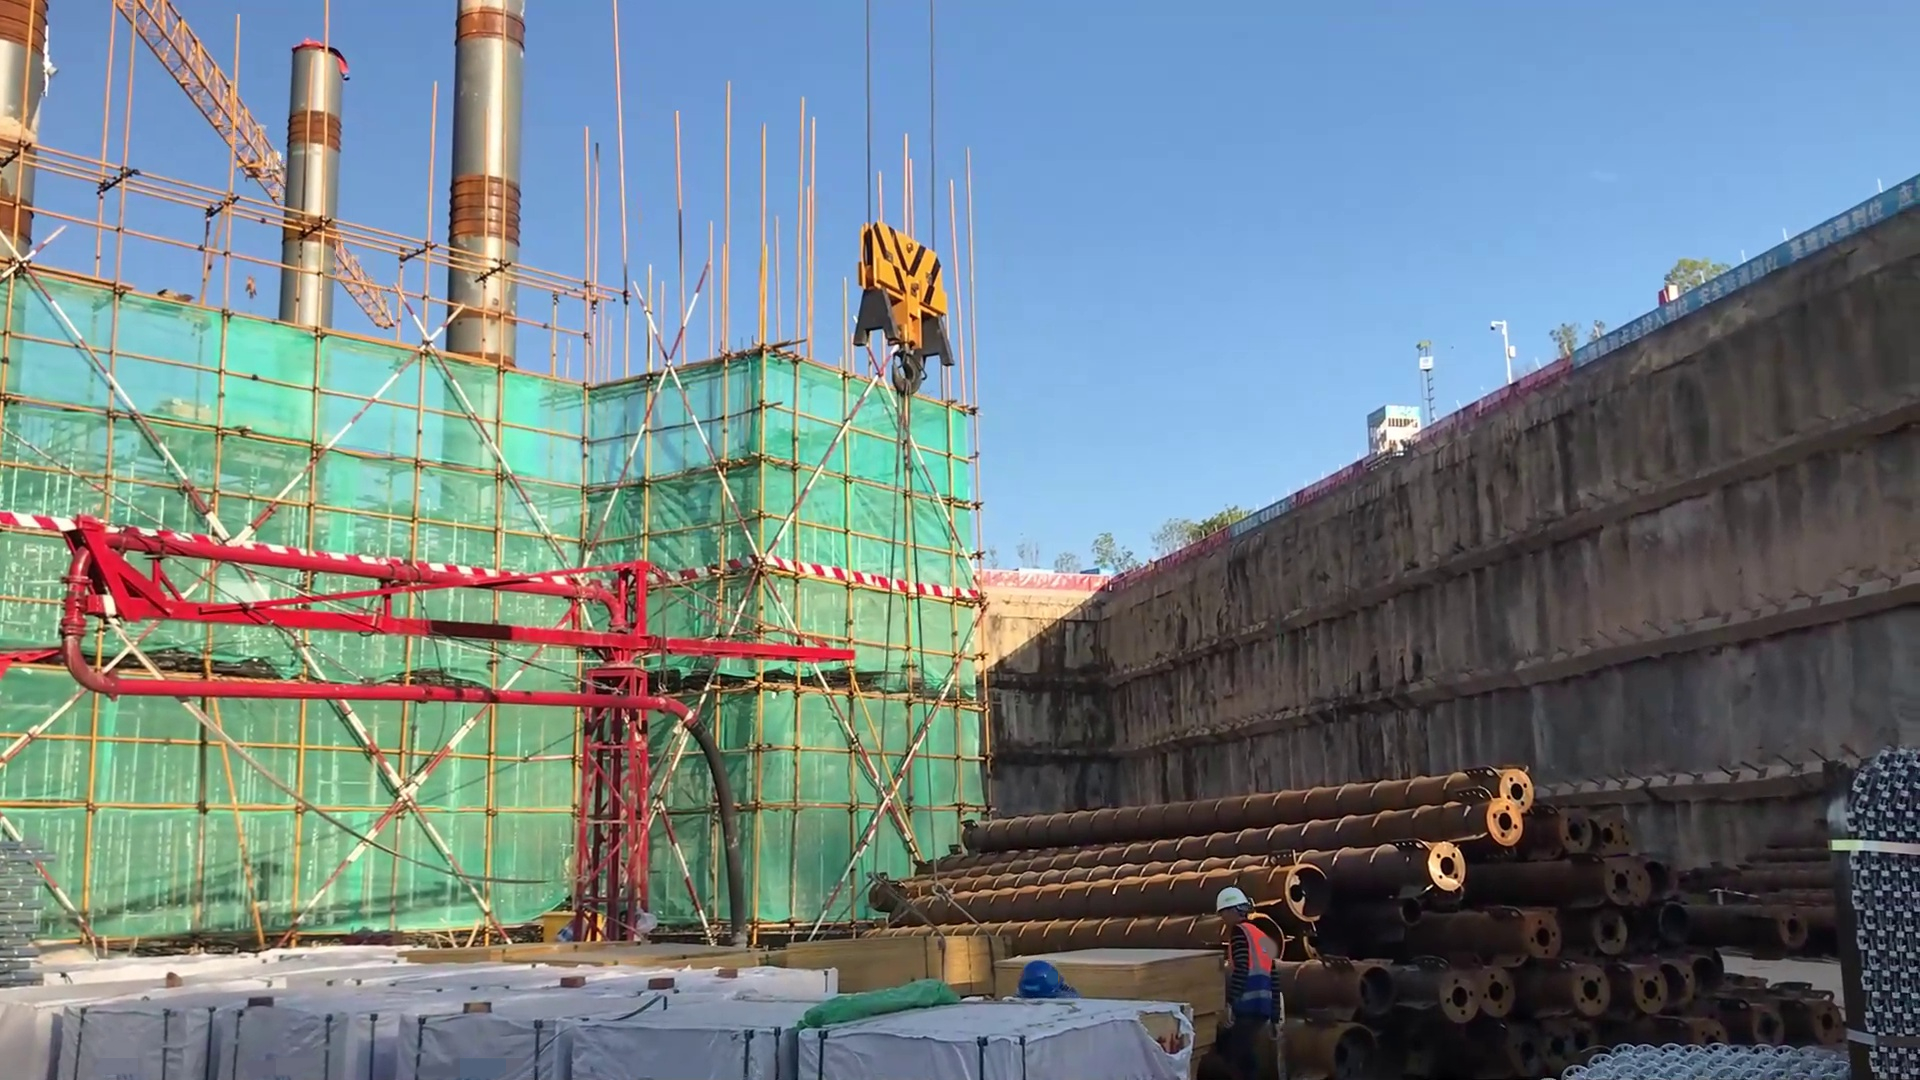board: (994, 945, 1230, 1060), (789, 923, 1007, 992)
ebox: (543, 909, 604, 948)
helmet: (1015, 947, 1066, 1002), (1208, 883, 1251, 926)
hook: (847, 220, 998, 453)
person: (1201, 886, 1310, 1076)
scaffold: (1847, 746, 1920, 1066), (1, 839, 72, 989)
slogan: (1566, 163, 1920, 377), (1212, 487, 1301, 542)
vest: (1221, 924, 1283, 1038)
